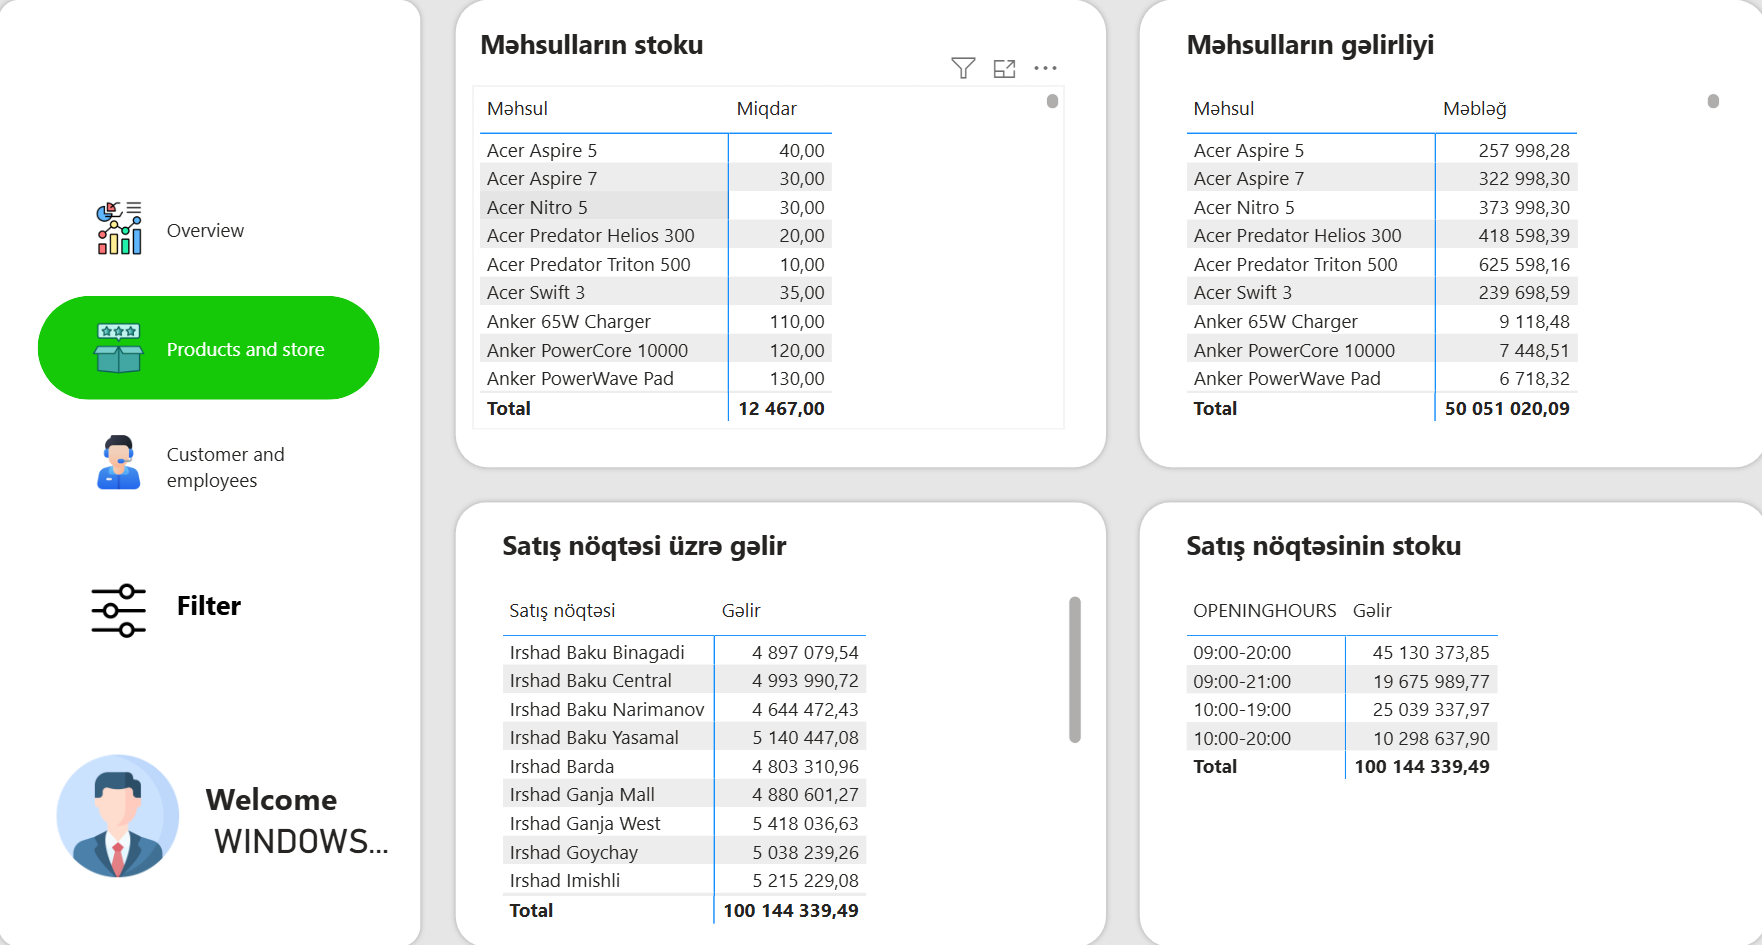

What the dashboard file says about the page in this screenshot:
{"tool":"powerbi","page":{"name":"Products and store","canvas":[1280,720],"ordinal":1},"visuals":[{"type":"shape","box":[16,32,304,672],"z":0,"group":"g1"},{"type":"shape","box":[336,32,464,336],"z":0},{"type":"pageNavigator","box":[48,160,240,240],"z":1000,"group":"g1"},{"type":"shape","box":[336,384,464,320],"z":1000},{"type":"shape","box":[816,32,448,336],"z":2000},{"type":"image","box":[48,560,112,96],"z":2000,"group":"g1"},{"type":"shape","box":[816,384,448,320],"z":3000},{"type":"textbox","box":[160,576,112,48],"z":3000,"group":"g1"},{"type":"textbox","box":[352,48,384,48],"z":4000},{"type":"actionButton","title":"cvbfbcvb","box":[48,424,240,72],"z":4000,"group":"g1"},{"type":"textbox","box":[848,48,256,48],"z":5000},{"type":"card","fields":{"Values":["CUSTOMERS_PB.username"]},"box":[160,608,144,32],"z":5000,"group":"g1"},{"type":"image","box":[80,336,48,48],"z":6000,"group":"g1"},{"type":"textbox","box":[848,400,368,48],"z":6000},{"type":"image","box":[80,168,48,56],"z":7000,"group":"g1"},{"type":"textbox","box":[368,400,288,48],"z":7000},{"type":"image","box":[80,256,48,48],"z":8000,"group":"g1"},{"type":"image","box":[80,440,48,48],"z":9000,"group":"g1"},{"type":"pivotTable","fields":{"Rows":["PRODUCTS_PB.PRODUCTNAME"],"Values":["Sum(PRODUCTS_PB.STOCKQUANTITY)"]},"box":[352,96,416,240],"z":11000},{"type":"pivotTable","fields":{"Rows":["PRODUCTS_PB.PRODUCTNAME"],"Values":["Sum(ORDER_ITEMS_PB.UNITPRICE)"]},"box":[848,96,384,240],"z":12000},{"type":"pivotTable","fields":{"Rows":["STORES.STORENAME"],"Values":["CUSTOMERS_PB.gelir"]},"box":[368,448,416,240],"z":13000},{"type":"pivotTable","fields":{"Values":["CUSTOMERS_PB.gelir"],"Rows":["STORES.OPENINGHOURS"]},"box":[848,448,384,240],"z":14000},{"type":"group","id":"g1","title":"left panel","box":[16,32,304,672],"z":15000}]}

Visuals, with their boxes on the page's 1280x720 design canvas (x1, y1, x2, y2). These are canvas units, not pixel positions in the 1762x945 screenshot, which may show the page scaled, cropped or inside an application window:
shape: bbox=[16, 32, 320, 704]
shape: bbox=[336, 32, 800, 368]
pageNavigator: bbox=[48, 160, 288, 400]
shape: bbox=[336, 384, 800, 704]
shape: bbox=[816, 32, 1264, 368]
image: bbox=[48, 560, 160, 656]
shape: bbox=[816, 384, 1264, 704]
textbox: bbox=[160, 576, 272, 624]
textbox: bbox=[352, 48, 736, 96]
"cvbfbcvb" actionButton: bbox=[48, 424, 288, 496]
textbox: bbox=[848, 48, 1104, 96]
card - CUSTOMERS_PB.username: bbox=[160, 608, 304, 640]
image: bbox=[80, 336, 128, 384]
textbox: bbox=[848, 400, 1216, 448]
image: bbox=[80, 168, 128, 224]
textbox: bbox=[368, 400, 656, 448]
image: bbox=[80, 256, 128, 304]
image: bbox=[80, 440, 128, 488]
pivotTable - PRODUCTS_PB.PRODUCTNAME x Sum(PRODUCTS_PB.STOCKQUANTITY): bbox=[352, 96, 768, 336]
pivotTable - PRODUCTS_PB.PRODUCTNAME x Sum(ORDER_ITEMS_PB.UNITPRICE): bbox=[848, 96, 1232, 336]
pivotTable - STORES.STORENAME x CUSTOMERS_PB.gelir: bbox=[368, 448, 784, 688]
pivotTable - CUSTOMERS_PB.gelir x STORES.OPENINGHOURS: bbox=[848, 448, 1232, 688]
"left panel" group: bbox=[16, 32, 320, 704]
